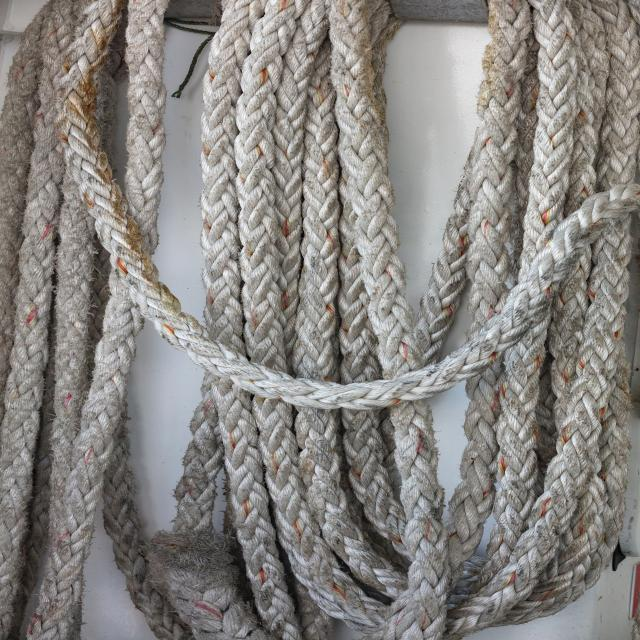rope: (211, 91, 417, 434)
